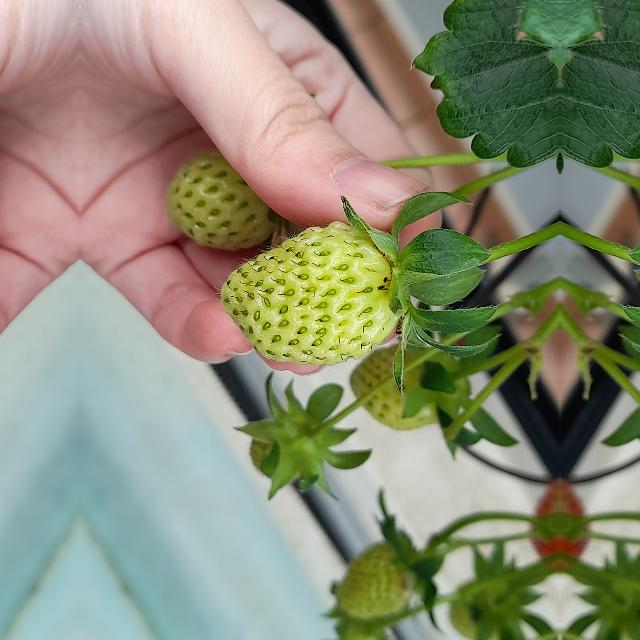Health_25: (220, 221, 400, 365)
